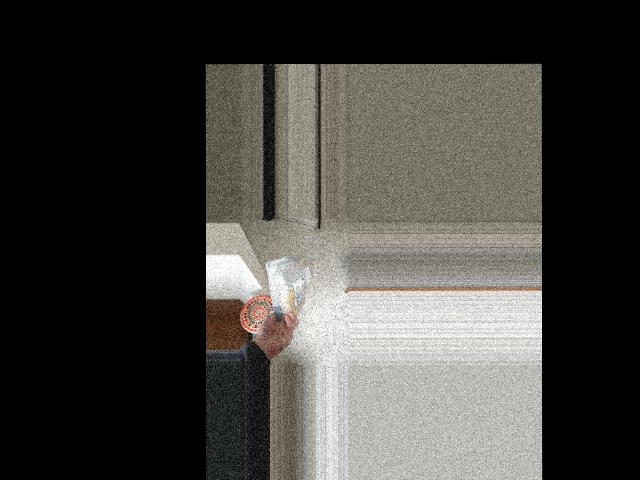cheese: (269, 254, 305, 320)
